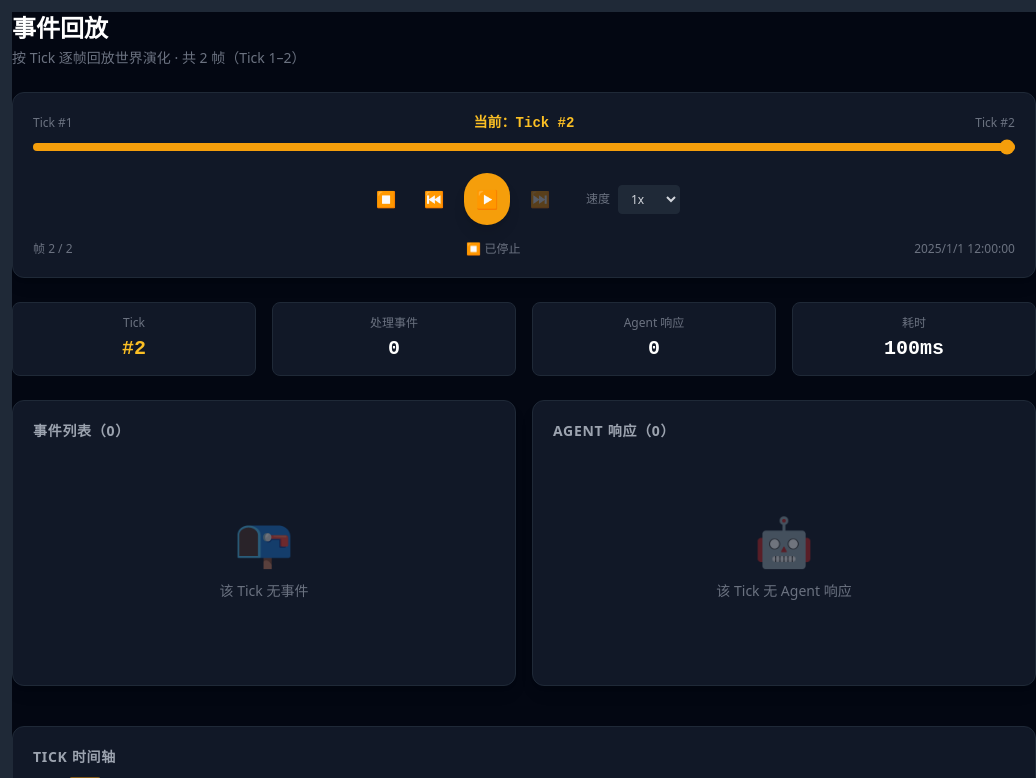
TimelineReplay › 第一帧时后退按钮应被禁用
The width and height of the screenshot is (1036, 778).
点击停止回到第一帧
Click the button with test id "btn-stop" at (386,199), box x1=368 y1=179 x2=404 y2=219
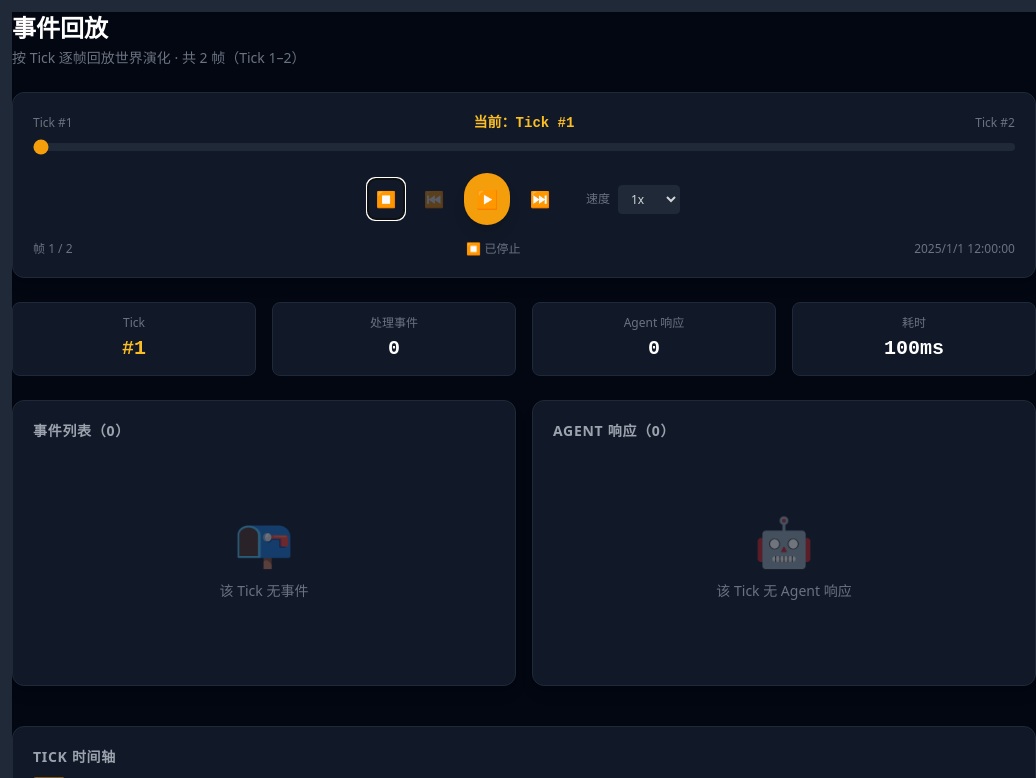
Check: the button with test id "btn-step-backward" is disabled, box x1=416 y1=179 x2=452 y2=219
